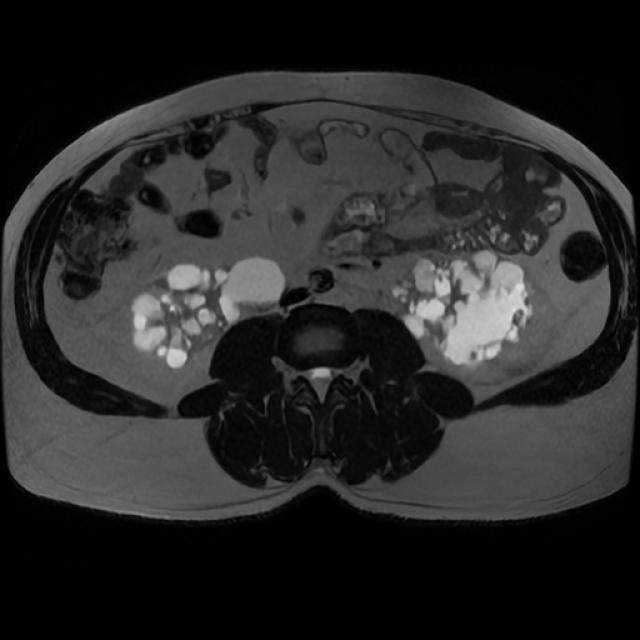sag: (130, 256, 288, 371)
sol: (393, 248, 536, 368)
